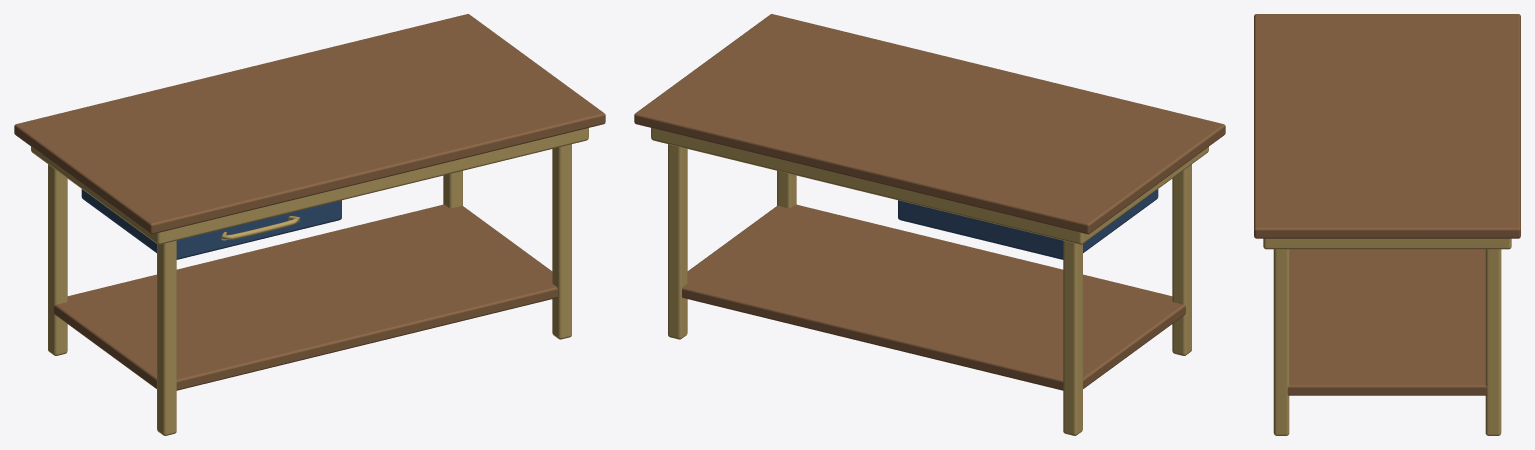
File: fantasy-cartographers-map-printing-guild-map-colouring-d74d0bc6__32259.glb
3 views of the same model, side by side, from view 1: azimuth 30°, elevation 25°; view 2: azimuth 150°, elevation 25°; view 3: azimuth 270°, elevation 25° (orthographic). The views are drawn at different scales.
Visible parts, largest first — view 1: map-colouring-desk; view 2: map-colouring-desk; view 3: map-colouring-desk.
Part boxes in pixels (x1,y1,x2,y2): map-colouring-desk: [14, 14, 605, 435]; map-colouring-desk: [634, 14, 1225, 435]; map-colouring-desk: [1254, 14, 1520, 435].
Size of the model in its own units: 1.95 by 0.9249 by 1.02.
